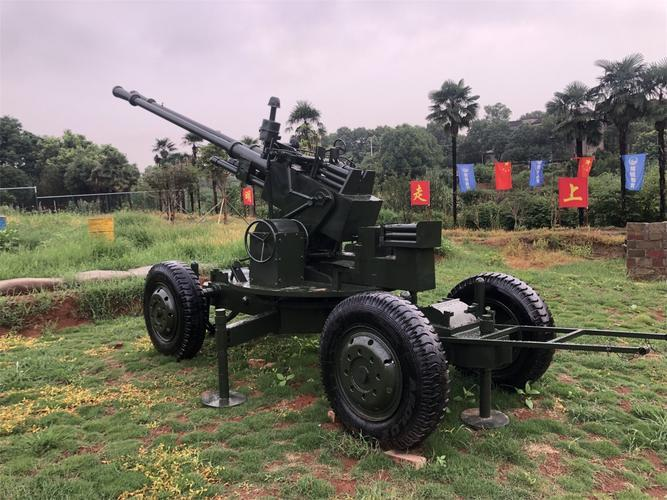MIL_SPG: (113, 86, 647, 449)
